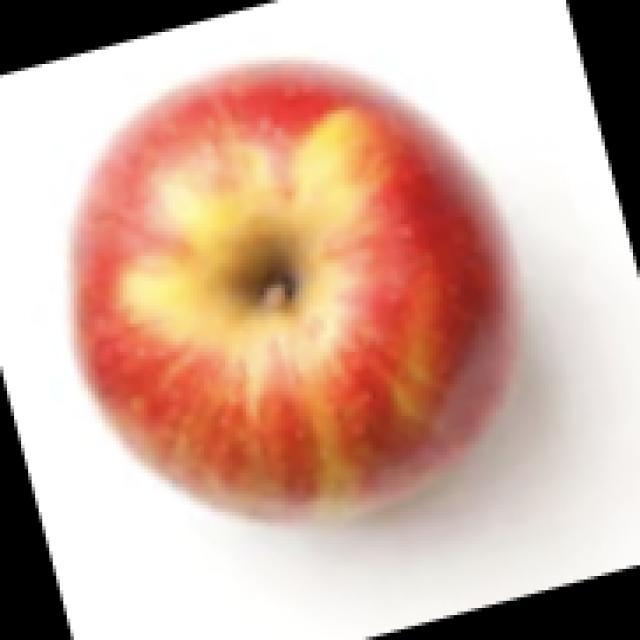Fresh Apple: (38, 53, 547, 525)
